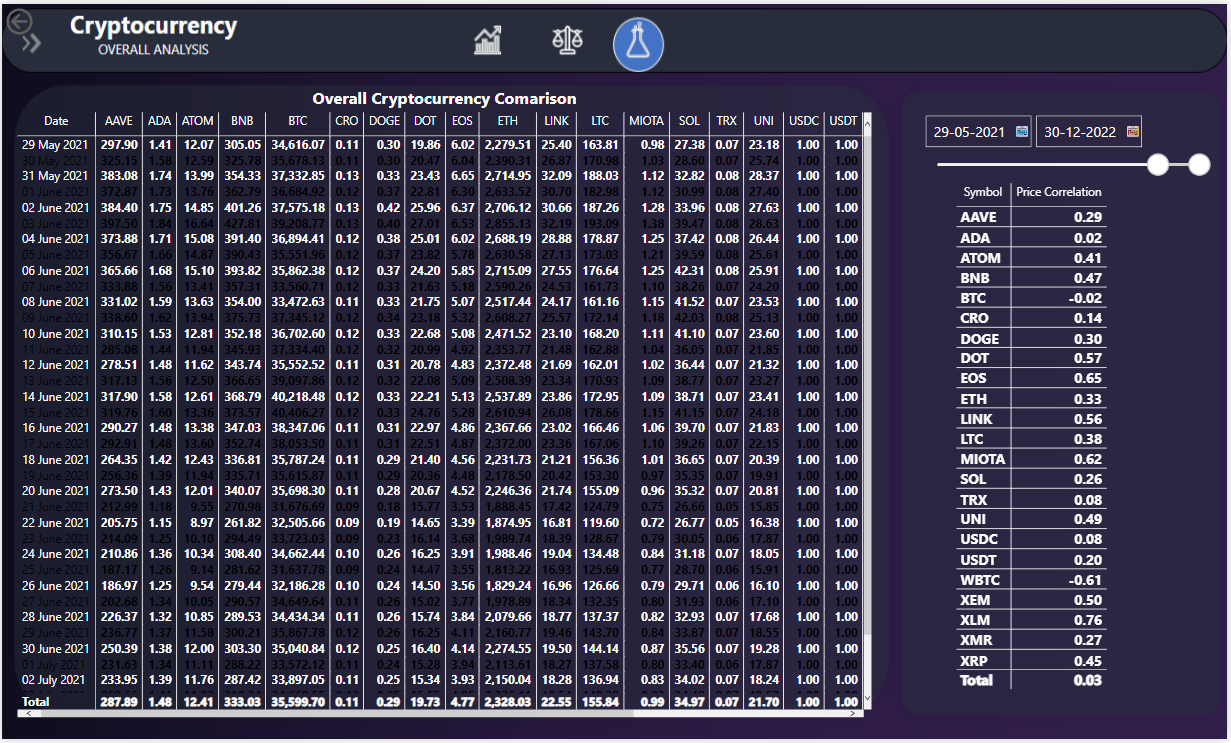

The page's visual inventory and layout, read from the dashboard file:
{"tool":"powerbi","page":{"name":"Analysis","canvas":[1400,840],"ordinal":3},"visuals":[{"type":"shape","box":[12.9,12.9,52.9,58.6],"z":0},{"type":"shape","box":[522.9,11.4,67.1,60],"z":1},{"type":"shape","box":[618.6,11.4,60,60],"z":3},{"type":"pivotTable","title":"Overall Cryptocurrency Comarison","fields":{"Rows":["Date.Date"],"Columns":["Crypto Symbols.Symbol"],"Values":["Key Measures.Close Price"]},"box":[12.9,94.3,985.7,725.7],"z":4},{"type":"slicer","fields":{"Values":["Date.Date"]},"box":[1042.9,117.1,347.1,92.9],"z":5},{"type":"tableEx","fields":{"Values":["Crypto Symbols.Symbol","Key Measures.Price / Value Correlation"]},"box":[1084.3,200,240,588.6],"z":6}]}

Visuals, with their boxes on the page's 1400x840 design canvas (x1, y1, x2, y2). These are canvas units, not pixel positions in the 1231x743 screenshot, which may show the page scaled, cropped or inside an application window:
shape: 13, 13, 66, 72
shape: 523, 11, 590, 71
shape: 619, 11, 679, 71
"Overall Cryptocurrency Comarison" pivotTable: 13, 94, 999, 820
slicer - Date.Date: 1043, 117, 1390, 210
tableEx - Crypto Symbols.Symbol x Key Measures.Price / Value Correlation: 1084, 200, 1324, 789
